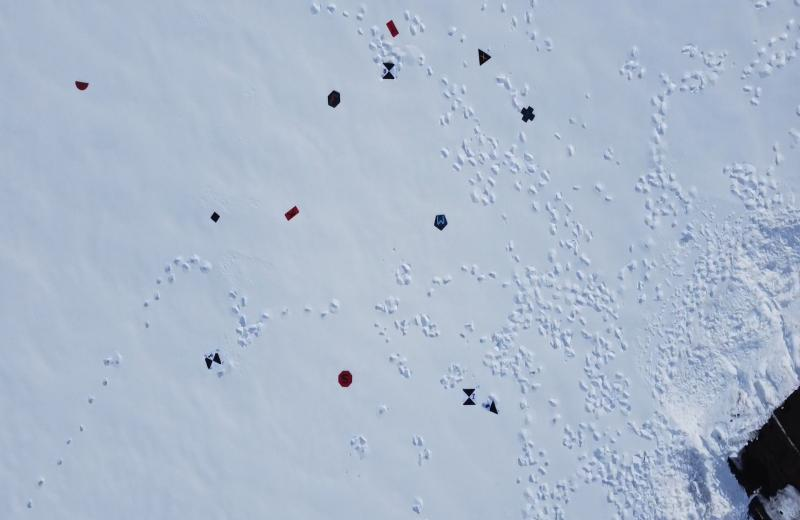Cross: (520, 106, 536, 124)
Hexagon: (327, 90, 342, 110)
Octagon: (338, 369, 354, 388)
Pentagon: (433, 213, 448, 231)
Rectangle: (284, 204, 300, 222), (386, 20, 399, 39)
Semi Circle: (74, 80, 90, 90)
Square: (210, 210, 220, 223)
Triangle: (477, 47, 491, 67)
